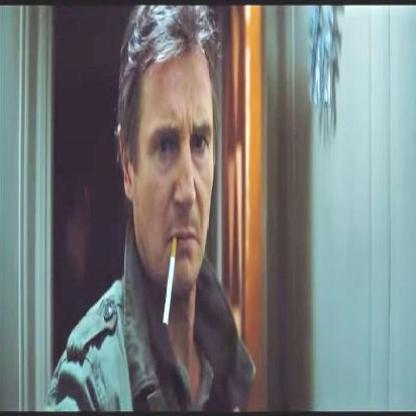cigarette: (160, 233, 178, 330)
person: (40, 3, 250, 415)
